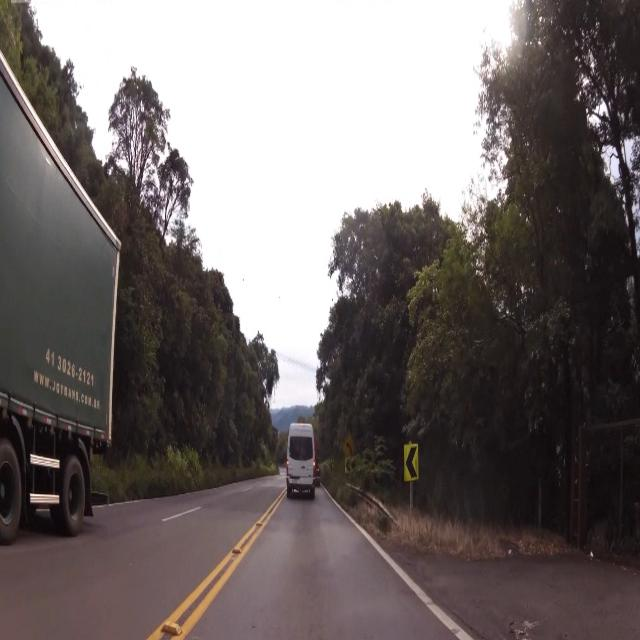Del: (403, 441, 420, 486)
